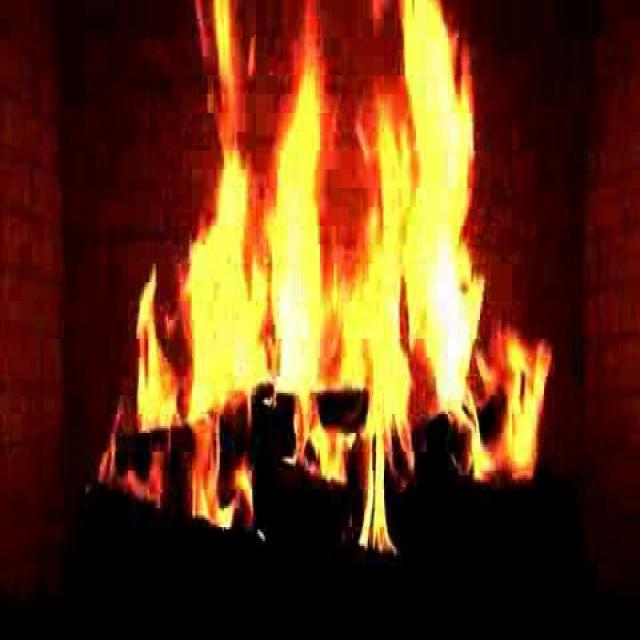fire: (132, 34, 531, 532)
